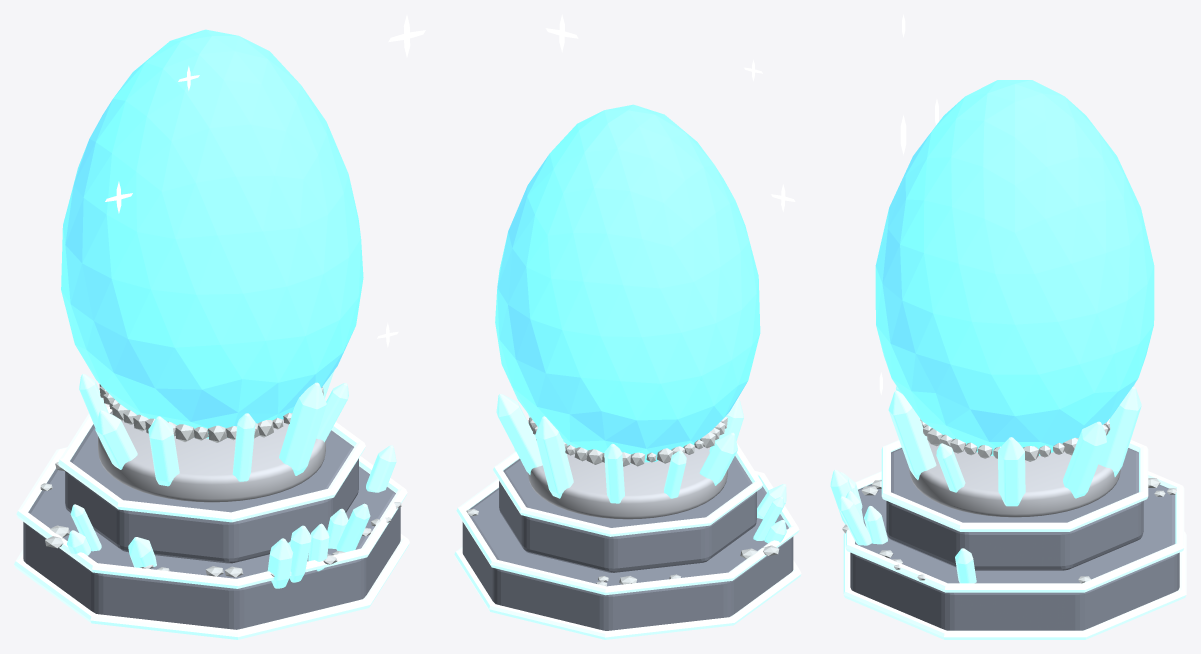
The model's file is dm_crystalegg.glb.
3 views of the same model, side by side, from view 1: azimuth 30°, elevation 25°; view 2: azimuth 150°, elevation 25°; view 3: azimuth 270°, elevation 25° (orthographic). The views are drawn at different scales.
Parts seen in each view (by area): view 1: CrystalEgg_Body, CrystalEgg_Stand_Base, CrystalEgg_Stand_Mid, CrystalEgg_Stand_Cup, CrystalEgg_Stand_Trim, CrystalEgg_Stand_Trim.002, CrystalEgg_Stand_Trim.001, CrystalEgg_CradleShard.008, CrystalEgg_CradleShard.006, CrystalEgg_CradleShard.005, CrystalEgg_CradleShard.007, CrystalEgg_BaseShard.004 (+8 smaller); view 2: CrystalEgg_Body, CrystalEgg_Stand_Base, CrystalEgg_Stand_Mid, CrystalEgg_Stand_Cup, CrystalEgg_Stand_Trim, CrystalEgg_Stand_Trim.002, CrystalEgg_Stand_Trim.001, CrystalEgg_CradleShard.002, CrystalEgg_CradleShard.001, CrystalEgg_CradleShard.005, CrystalEgg_CradleShard.003, CrystalEgg_CradleShard.004 (+2 smaller); view 3: CrystalEgg_Body, CrystalEgg_Stand_Base, CrystalEgg_Stand_Mid, CrystalEgg_Stand_Cup, CrystalEgg_Stand_Trim, CrystalEgg_Stand_Trim.002, CrystalEgg_Stand_Trim.001, CrystalEgg_CradleShard.008, CrystalEgg_CradleShard.001, CrystalEgg_CradleShard.002, CrystalEgg_CradleShard, CrystalEgg_BaseShard.003 (+4 smaller).
Boxes of the visible parts, <box> form: CrystalEgg_Body: <box>61,29,363,438</box>; CrystalEgg_Stand_Base: <box>23,466,400,629</box>; CrystalEgg_Stand_Mid: <box>65,424,358,563</box>; CrystalEgg_Stand_Cup: <box>98,411,325,502</box>; CrystalEgg_Stand_Trim: <box>16,447,407,588</box>; CrystalEgg_Stand_Trim.002: <box>14,534,409,639</box>; CrystalEgg_Stand_Trim.001: <box>58,407,365,522</box>; CrystalEgg_CradleShard.008: <box>279,382,326,475</box>; CrystalEgg_CradleShard.006: <box>148,416,179,486</box>; CrystalEgg_CradleShard.005: <box>95,410,137,469</box>; CrystalEgg_CradleShard.007: <box>232,413,255,481</box>; CrystalEgg_BaseShard.004: <box>267,538,292,588</box>; CrystalEgg_Body: <box>495,104,760,463</box>; CrystalEgg_Stand_Base: <box>462,486,793,630</box>; CrystalEgg_Stand_Mid: <box>499,456,756,572</box>; CrystalEgg_Stand_Cup: <box>528,446,727,519</box>; CrystalEgg_Stand_Trim: <box>456,471,799,595</box>; CrystalEgg_Stand_Trim.002: <box>454,547,801,639</box>; CrystalEgg_Stand_Trim.001: <box>493,443,762,536</box>; CrystalEgg_CradleShard.002: <box>535,416,573,498</box>; CrystalEgg_CradleShard.001: <box>496,394,542,474</box>; CrystalEgg_CradleShard.005: <box>699,432,737,485</box>; CrystalEgg_CradleShard.003: <box>604,443,624,503</box>; CrystalEgg_CradleShard.004: <box>664,450,686,498</box>; CrystalEgg_Body: <box>875,80,1154,456</box>; CrystalEgg_Stand_Base: <box>850,480,1179,630</box>; CrystalEgg_Stand_Mid: <box>886,448,1143,570</box>; CrystalEgg_Stand_Cup: <box>909,436,1120,517</box>; CrystalEgg_Stand_Trim: <box>845,471,1184,592</box>; CrystalEgg_Stand_Trim.002: <box>843,531,1186,639</box>; CrystalEgg_Stand_Trim.001: <box>881,440,1148,531</box>; CrystalEgg_CradleShard.008: <box>888,390,936,479</box>; CrystalEgg_CradleShard.001: <box>1063,421,1106,498</box>; CrystalEgg_CradleShard.002: <box>1098,386,1141,476</box>; CrystalEgg_CradleShard: <box>998,437,1025,506</box>; CrystalEgg_BaseShard.003: <box>838,496,871,545</box>.
Bounding box in the file's own units: 3.16 × 5.12 × 3.19.
